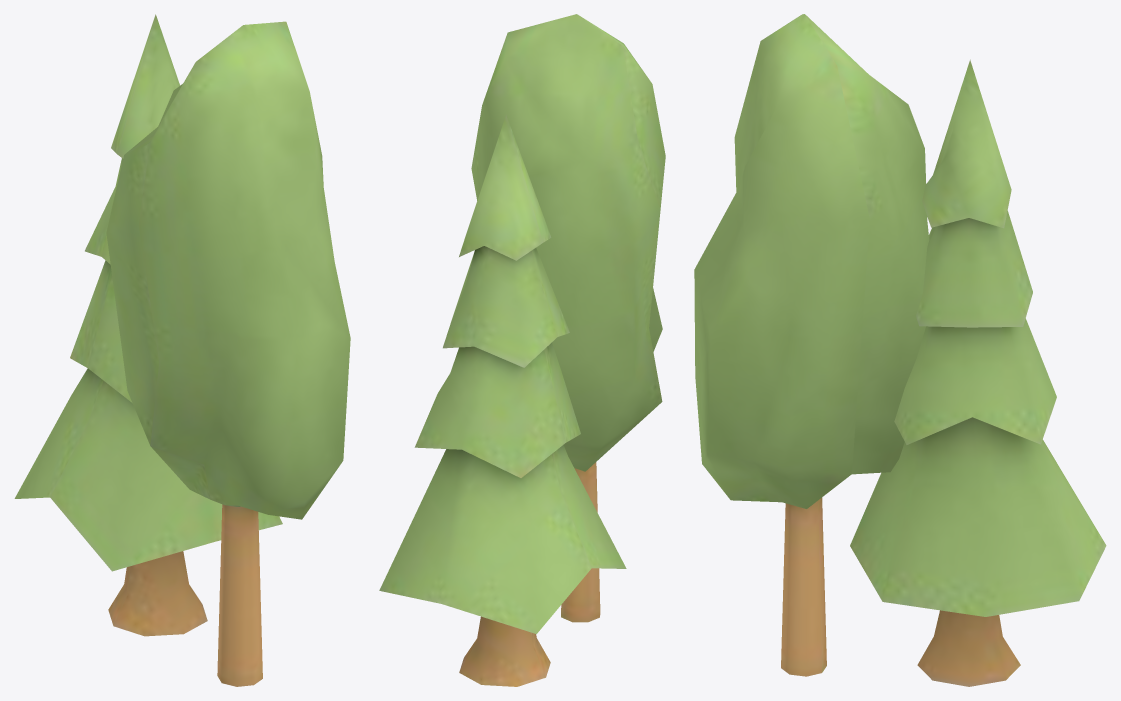
The model's file is treepine.glb.
3 views of the same model, side by side, from view 1: azimuth 30°, elevation 25°; view 2: azimuth 150°, elevation 25°; view 3: azimuth 270°, elevation 25° (orthographic). The views are drawn at different scales.
Visible parts, largest first — view 1: TreePine; view 2: TreePine; view 3: TreePine.
Part boxes in pixels (box(x1,y1,x2,y2)): TreePine: box(14, 14, 350, 686); TreePine: box(379, 14, 665, 686); TreePine: box(694, 14, 1106, 686).
Size of the model in its own units: 2.84 by 8.41 by 4.8.
2 materials, 2 textured.
